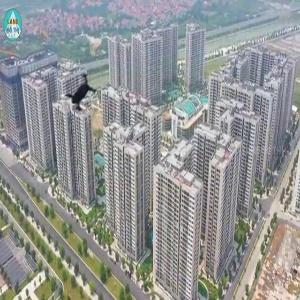drone: (51, 65, 108, 122)
